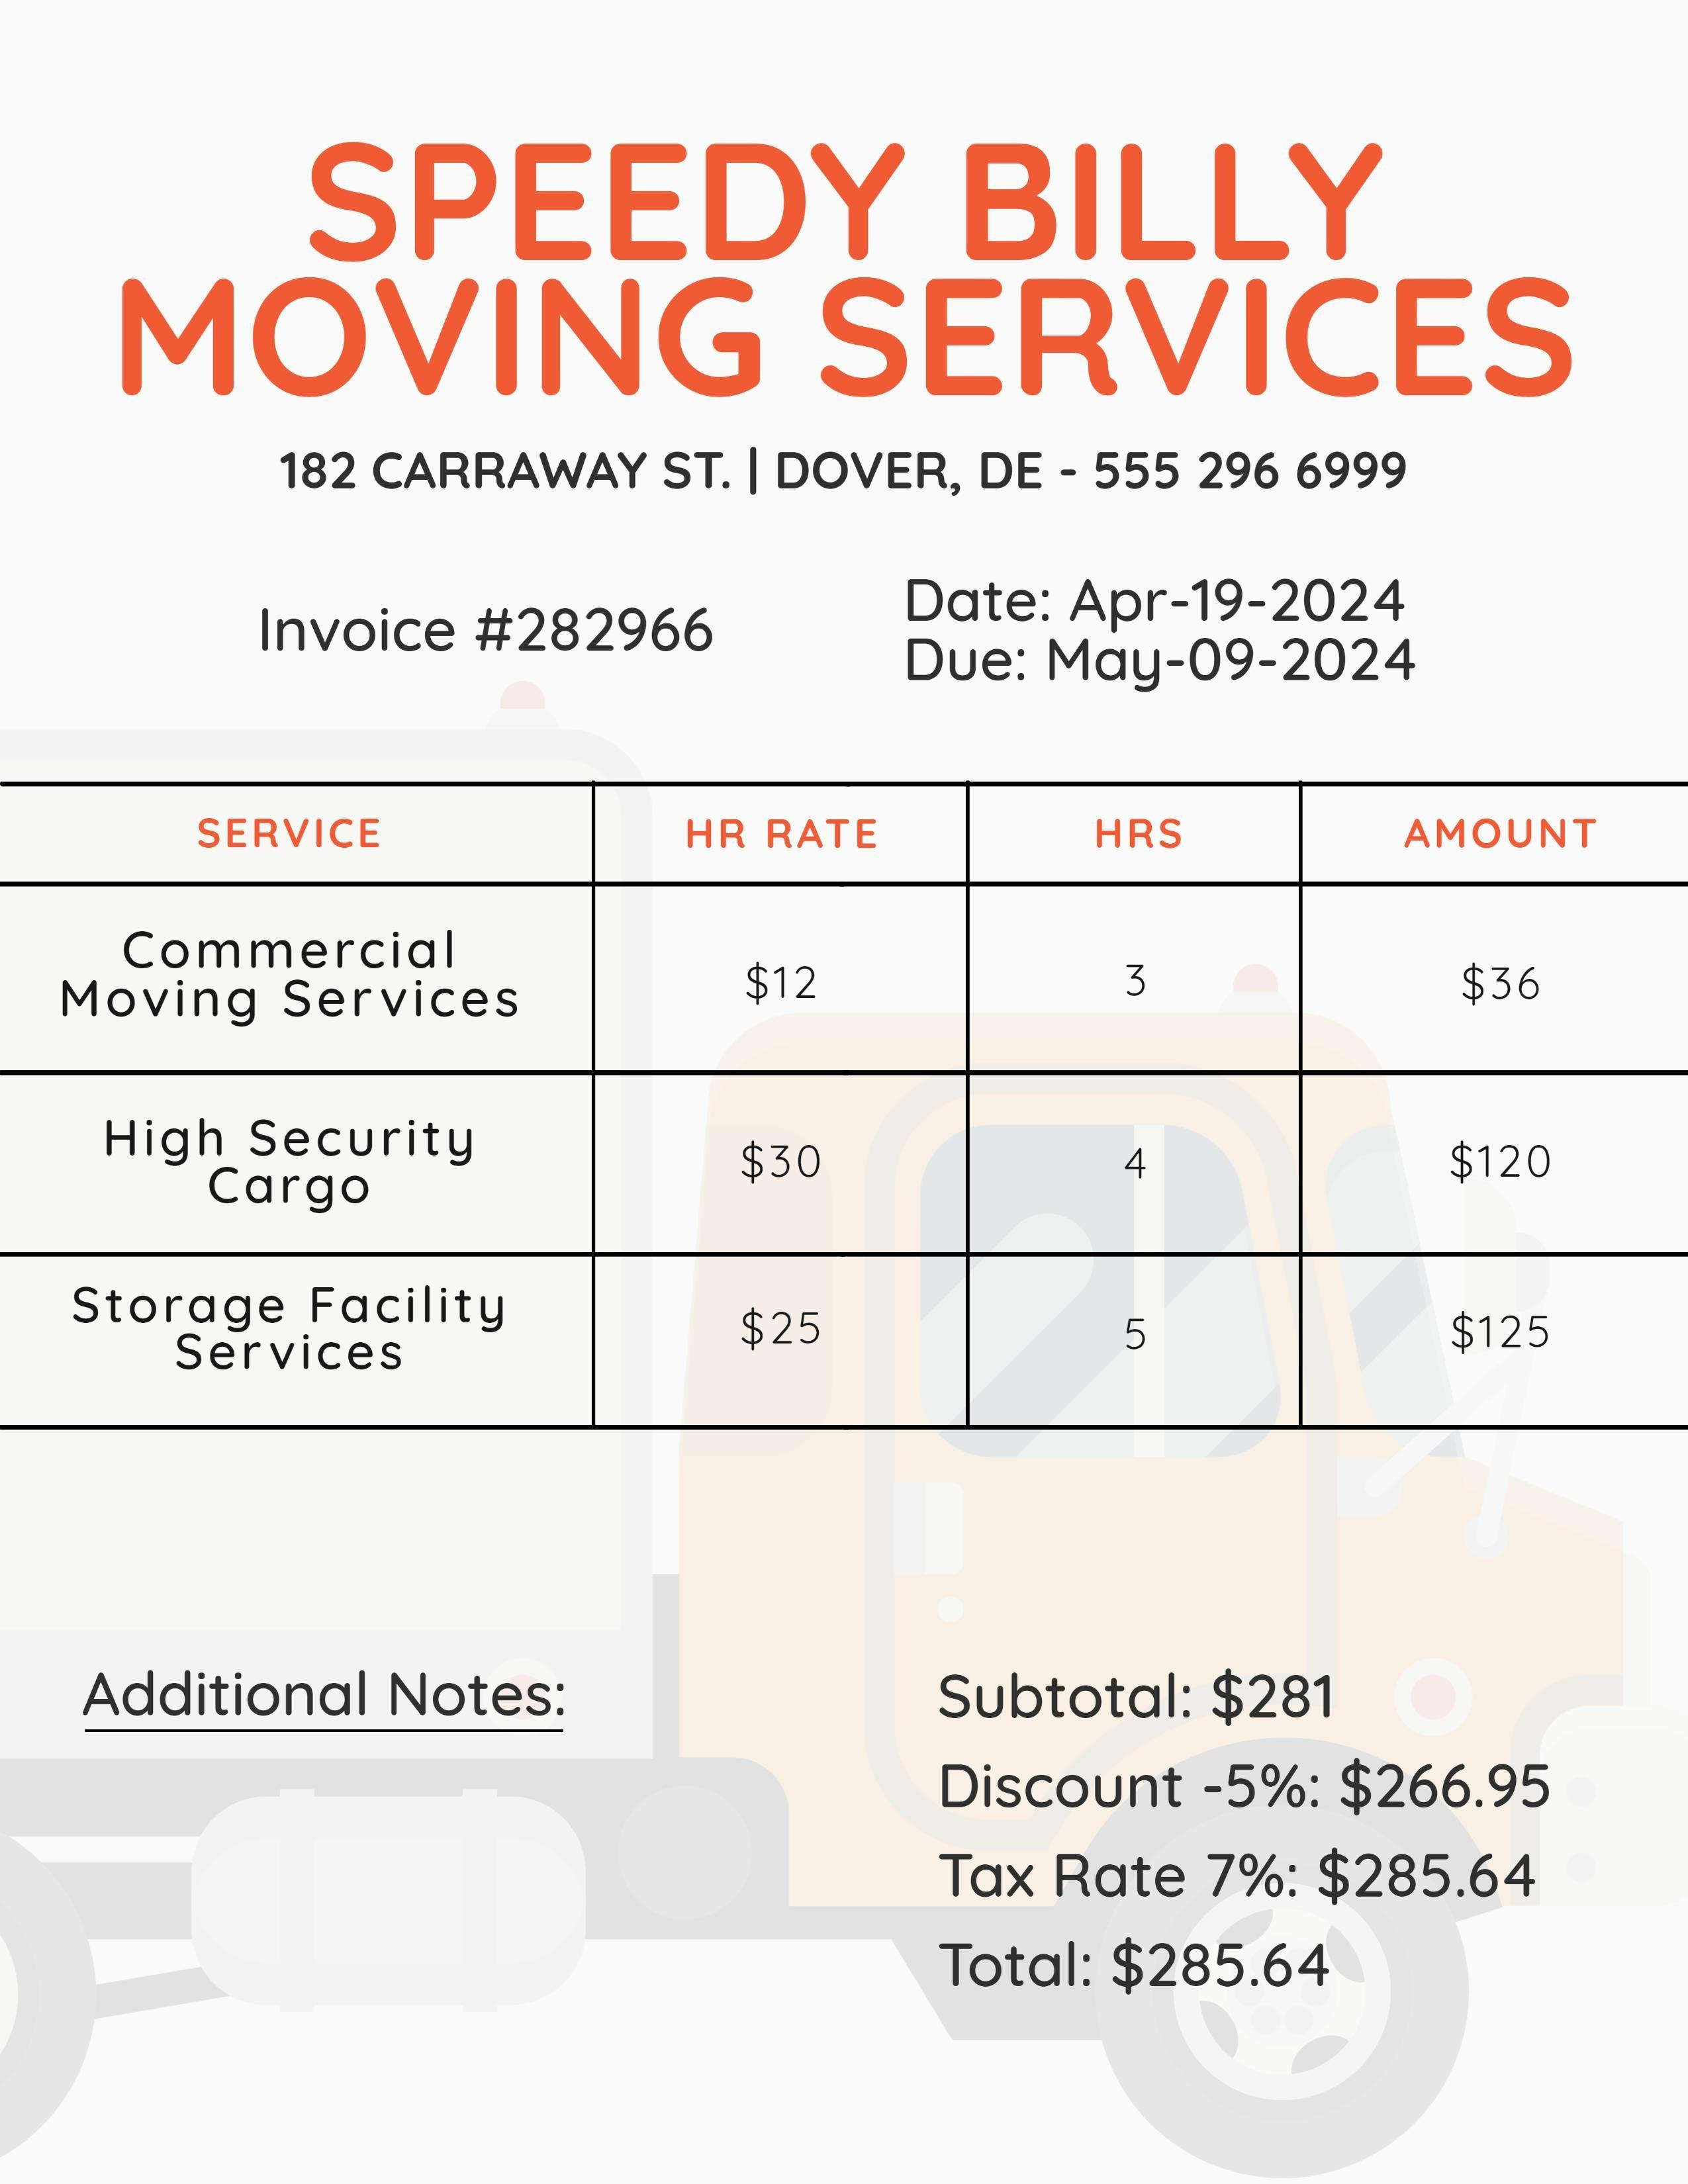ROI: (50, 762, 1637, 1468), (82, 92, 1619, 445), (913, 1626, 1585, 2042), (229, 567, 1477, 734)
